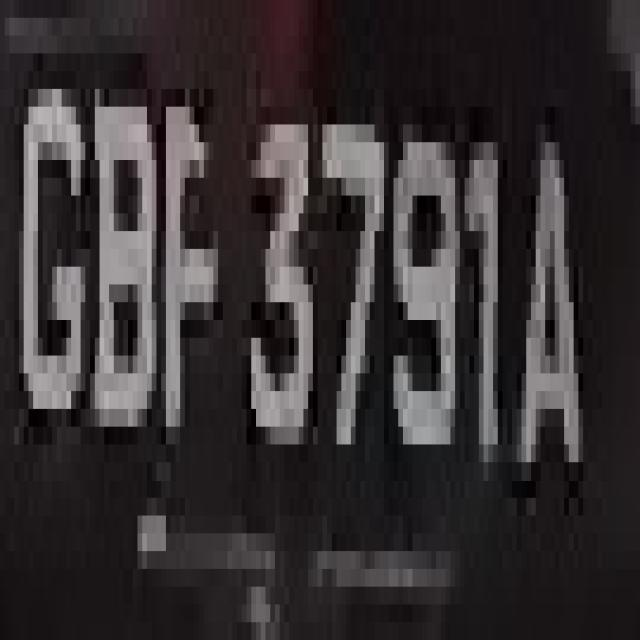1: (470, 53, 508, 498)
3: (242, 71, 313, 480)
7: (308, 71, 394, 533)
9: (389, 142, 469, 534)
A: (507, 71, 588, 551)
B: (90, 53, 152, 444)
F: (161, 71, 228, 480)
G: (19, 71, 90, 498)
